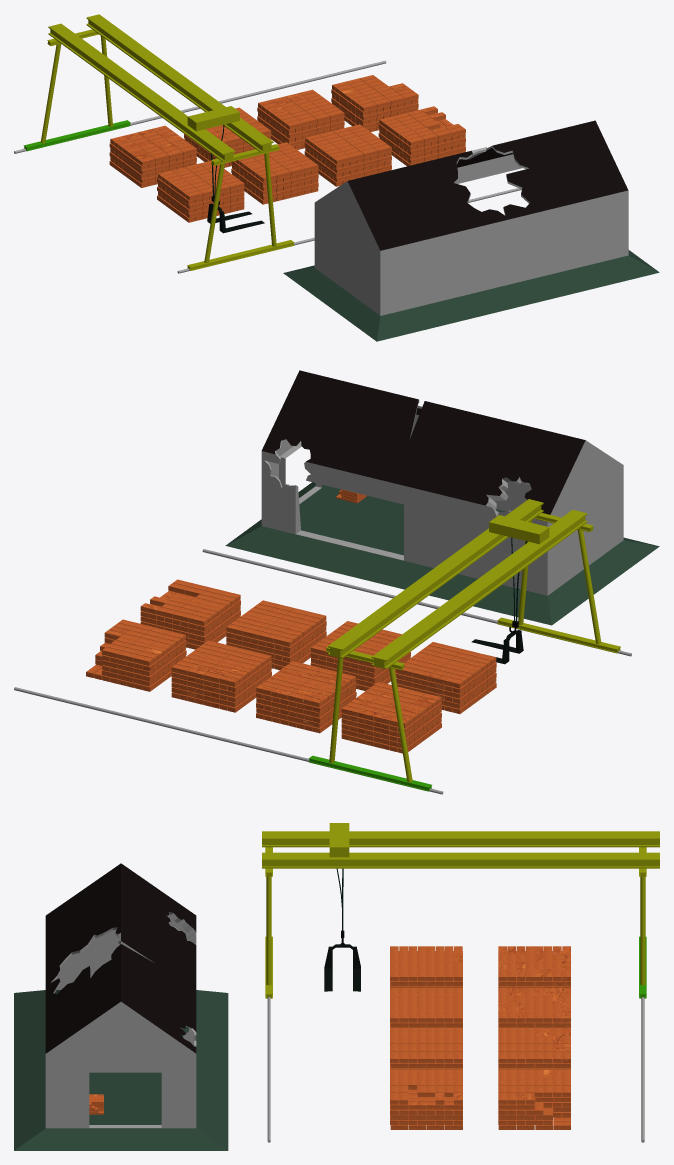
File: brickyard.obj
The picture shows the model from 3 angles, top to bottom: view 1: azimuth 30°, elevation 25°; view 2: azimuth 150°, elevation 25°; view 3: azimuth 270°, elevation 25°; orthographic projection. The views are drawn at different scales.
Parts seen in each view (by area): view 1: House_Cube.1548, Cube.002_Cube.1552, Cube.005_Cube.1543, HouseBase_Cube.1554, Rail_Cylinder.009, Cube.001_Cube.1550, Cube.003_Cube.1541, Cube.007_Cube.1545; view 2: House_Cube.1548, Cube.002_Cube.1552, HouseBase_Cube.1554, Cube.005_Cube.1543, Rail_Cylinder.009, Cube.001_Cube.1550, Cube.003_Cube.1541, Cube.007_Cube.1545; view 3: House_Cube.1548, Cube.002_Cube.1552, HouseBase_Cube.1554, Cube.005_Cube.1543, Rail_Cylinder.009, Cube.007_Cube.1545, Cube.001_Cube.1550.
Boxes of the visible parts, x1=… form: House_Cube.1548: x1=314, y1=120, x2=628, y2=315; Cube.002_Cube.1552: x1=109, y1=75, x2=465, y2=222; Cube.005_Cube.1543: x1=40, y1=14, x2=294, y2=270; HouseBase_Cube.1554: x1=283, y1=250, x2=659, y2=341; Rail_Cylinder.009: x1=14, y1=60, x2=521, y2=273; Cube.001_Cube.1550: x1=187, y1=106, x2=239, y2=131; Cube.003_Cube.1541: x1=23, y1=120, x2=130, y2=151; Cube.007_Cube.1545: x1=207, y1=203, x2=264, y2=233; House_Cube.1548: x1=261, y1=370, x2=623, y2=595; Cube.002_Cube.1552: x1=86, y1=579, x2=496, y2=753; HouseBase_Cube.1554: x1=225, y1=482, x2=659, y2=625; Cube.005_Cube.1543: x1=325, y1=499, x2=620, y2=782; Rail_Cylinder.009: x1=14, y1=549, x2=631, y2=794; Cube.001_Cube.1550: x1=489, y1=515, x2=549, y2=544; Cube.003_Cube.1541: x1=308, y1=755, x2=431, y2=791; Cube.007_Cube.1545: x1=471, y1=630, x2=523, y2=664; House_Cube.1548: x1=45, y1=863, x2=196, y2=1128; Cube.002_Cube.1552: x1=390, y1=946, x2=570, y2=1129; HouseBase_Cube.1554: x1=14, y1=990, x2=228, y2=1150; Cube.005_Cube.1543: x1=262, y1=831, x2=659, y2=998; Rail_Cylinder.009: x1=267, y1=997, x2=644, y2=1142; Cube.007_Cube.1545: x1=324, y1=943, x2=360, y2=991; Cube.001_Cube.1550: x1=329, y1=823, x2=349, y2=857.
Size of the model in its own units: 9.05 by 2.99 by 11.95.
